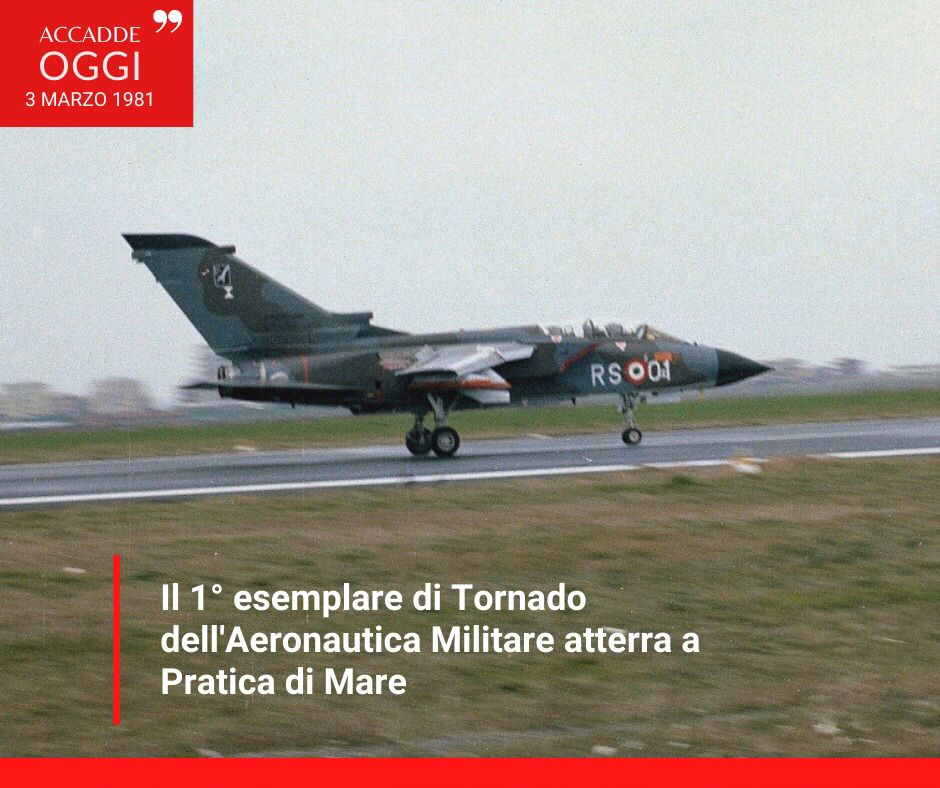Tornado: (120, 232, 779, 457)
